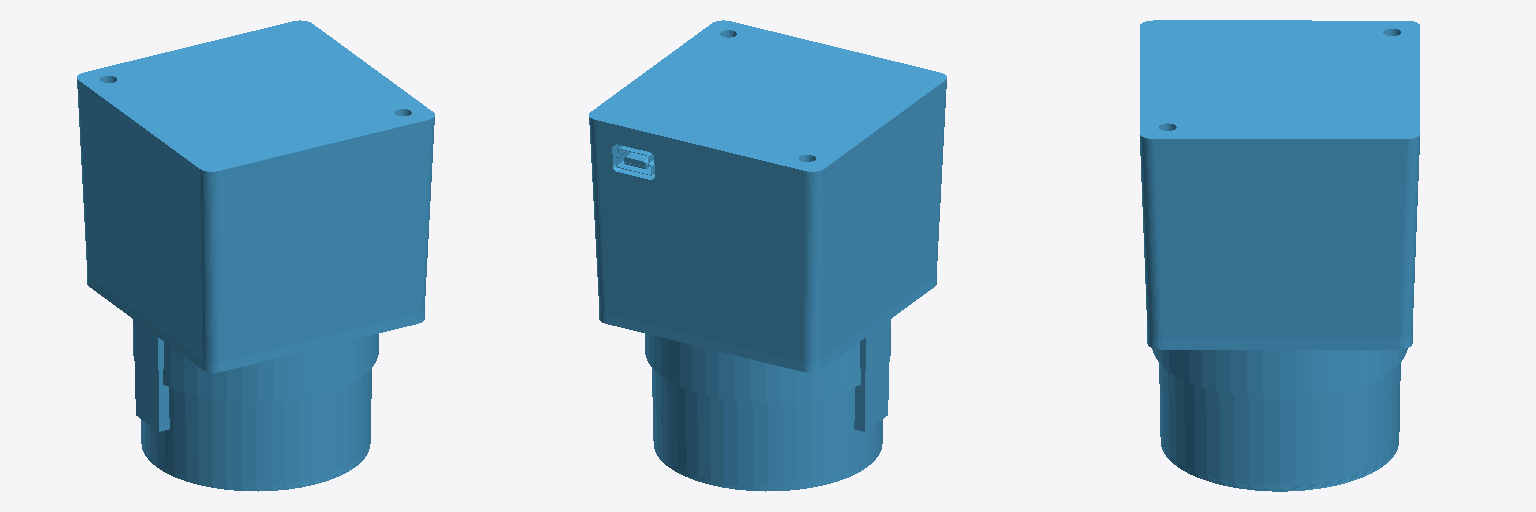
robot.urdf — rollocopterRIGHT:
<?xml version="1.0"?>
<robot name="rollocopterRIGHT">

  <link name="rollocopterRIGHT">	  
  </link>
  
  <link name="laserRIGHT">
	<visual>
      <origin rpy="0  0 1.5707" xyz=" 0 0 0"/>
      <geometry>
        <mesh filename="package://bintel_ros/meshes/hokuyo_urg04lx.STL" scale="0.001 0.001 0.001"/>
      </geometry>     
    </visual>
  </link>
  
  <joint name="laser_to_bintel" type="fixed">
    <parent link="rollocopterRIGHT"/>
    <child link="laserRIGHT"/>
    <origin rpy="0 -1.5707 3.1415" xyz="0.0 0 0"/>
  </joint>


</robot>

--- Facts derived from the render (not from the file) ---
3 views of the same robot in one strip: view 1: azimuth 30°, elevation 25°; view 2: azimuth 150°, elevation 25°; view 3: azimuth 270°, elevation 25° (orthographic).
Robot: rollocopterRIGHT — 2 links, 1 joints (1 fixed); root link rollocopterRIGHT; default pose: every joint at zero.
Links seen in each view (by area): view 1: laserRIGHT; view 2: laserRIGHT; view 3: laserRIGHT.
Boxes of the visible links, x1,y1,x2,y2 form: laserRIGHT: [77, 20, 434, 491]; laserRIGHT: [589, 20, 946, 491]; laserRIGHT: [1140, 20, 1419, 491].
Bounding box of the posed robot: 0.05 × 0.05 × 0.071 m (x, y, z).
1 mesh visuals loaded from 1 distinct referenced files (1 binary STL).